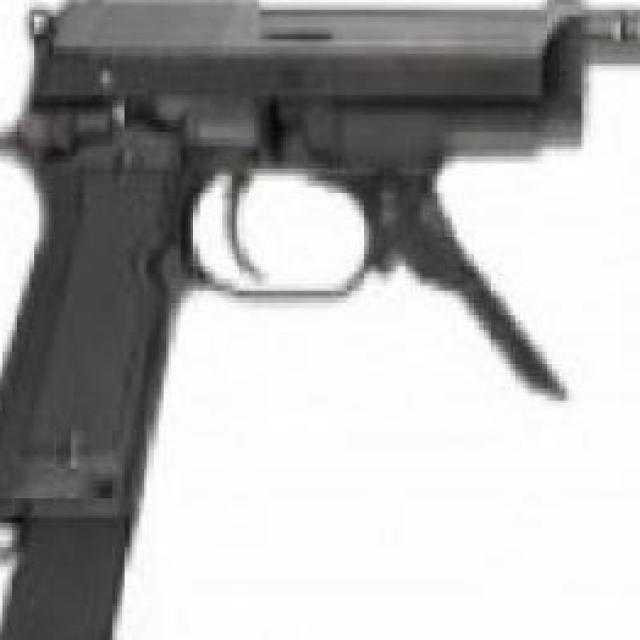pistol: (0, 0, 599, 540)
